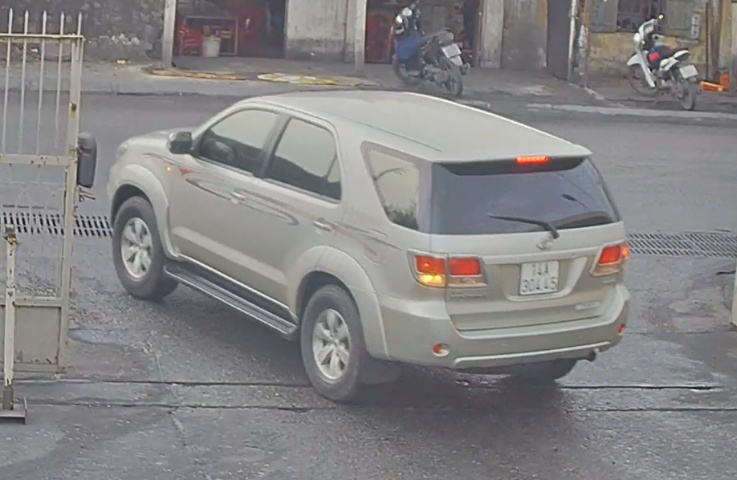vehicle plate: (508, 253, 566, 296)
